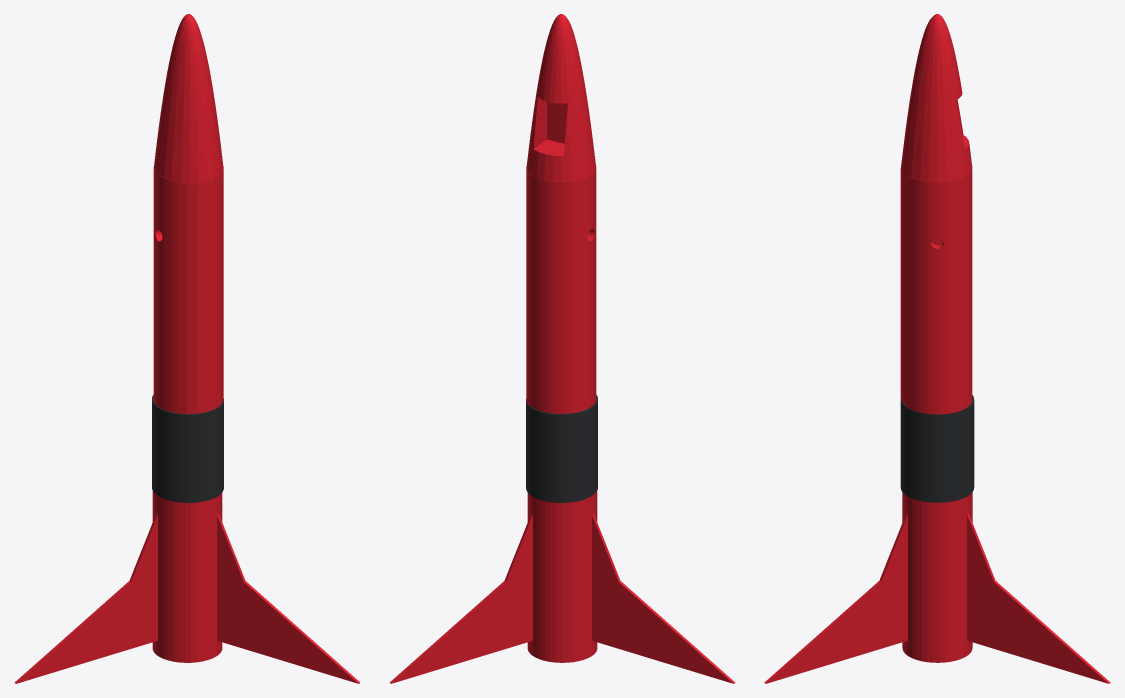
File: rocket_edited.obj
The picture shows the model from 3 angles, left to right: view 1: azimuth 30°, elevation 25°; view 2: azimuth 150°, elevation 25°; view 3: azimuth 270°, elevation 25°; orthographic projection.
Visible parts, largest first — view 1: obj_0; view 2: obj_0; view 3: obj_0.
Part boxes in pixels (left/top/right/bottom): obj_0: left=14, top=14, right=360, bottom=683; obj_0: left=389, top=14, right=735, bottom=683; obj_0: left=764, top=14, right=1110, bottom=683.
Size of the model in its own units: 9.83 by 22.91 by 11.35.
